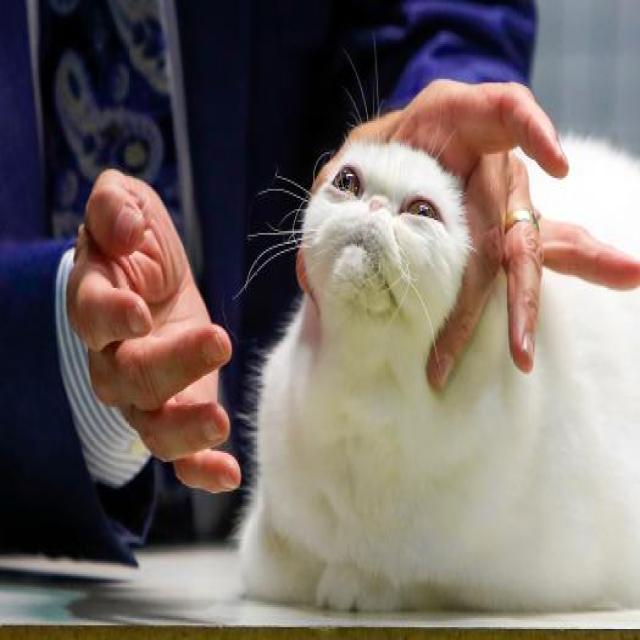Cat: (293, 134, 478, 356)
